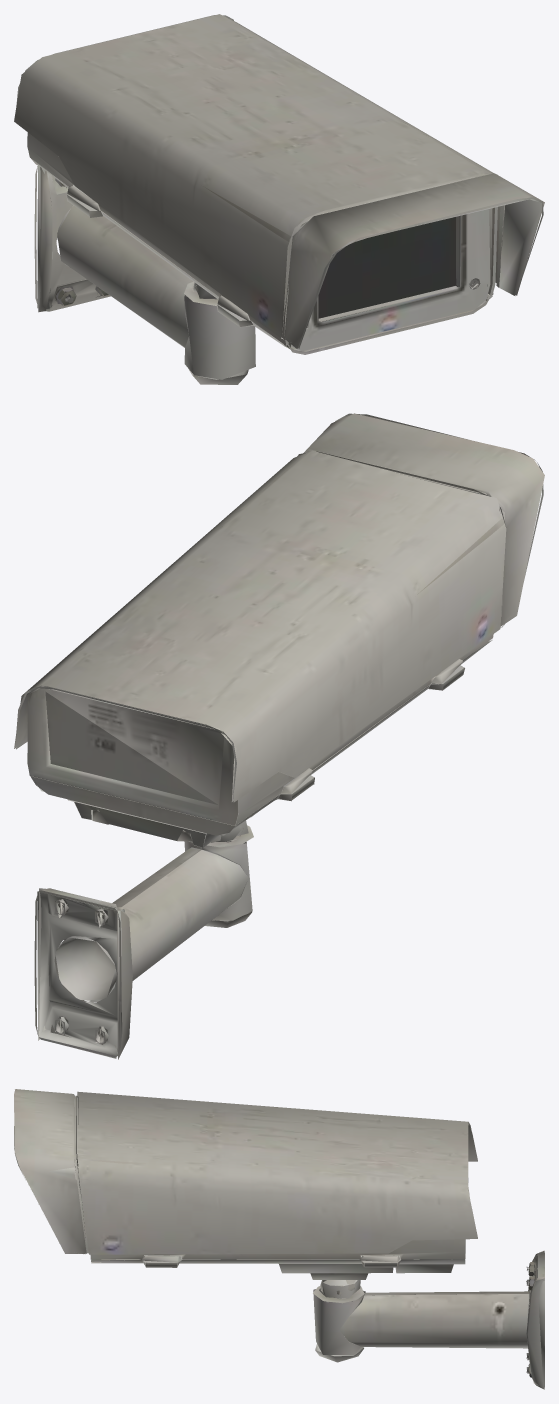
File: security_camera_02.glb
3 views of the same model, one above another, from view 1: azimuth 30°, elevation 25°; view 2: azimuth 150°, elevation 25°; view 3: azimuth 270°, elevation 25° (orthographic). The views are drawn at different scales.
Visible parts, largest first — view 1: security_camera_02, security_camera_02_mount; view 2: security_camera_02, security_camera_02_mount; view 3: security_camera_02, security_camera_02_mount.
Part boxes in pixels (box(x1,y1,x2,y2)): security_camera_02: box(14, 14, 544, 354); security_camera_02_mount: box(34, 165, 255, 384); security_camera_02: box(14, 413, 544, 847); security_camera_02_mount: box(34, 820, 253, 1059); security_camera_02: box(14, 1089, 477, 1302); security_camera_02_mount: box(313, 1250, 544, 1389).
Size of the model in its own units: 0.1415 by 0.2097 by 0.3937.
2 materials, 2 textured.
